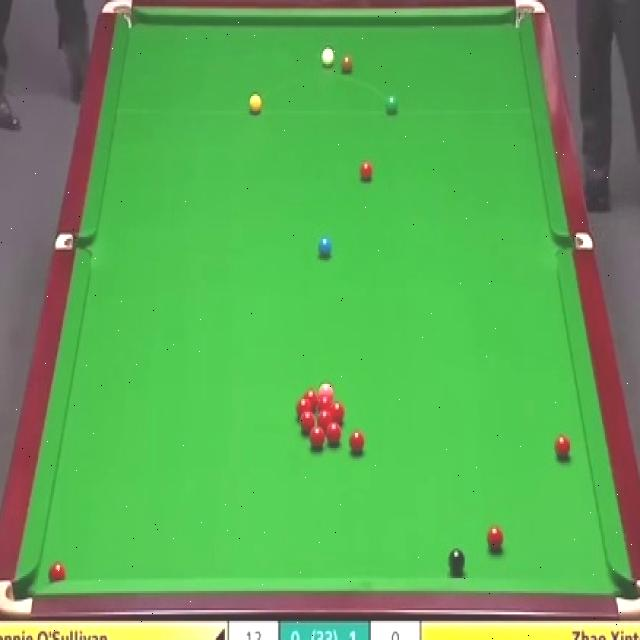black-ball: (448, 548, 466, 576)
blue-ball: (317, 235, 332, 260)
brown-ball: (340, 56, 353, 76)
green-ball: (384, 95, 400, 117)
pink-ball: (318, 383, 334, 395)
red-ball: (487, 525, 505, 553), (358, 158, 374, 184), (554, 436, 571, 460), (325, 423, 341, 447), (50, 560, 66, 582), (349, 432, 365, 454), (296, 398, 314, 416), (310, 427, 324, 450), (330, 403, 345, 423), (301, 412, 314, 434), (304, 392, 319, 410), (318, 410, 332, 426), (317, 394, 330, 411)
white-ball: (320, 46, 334, 68)
yellow-ball: (249, 94, 262, 115)
